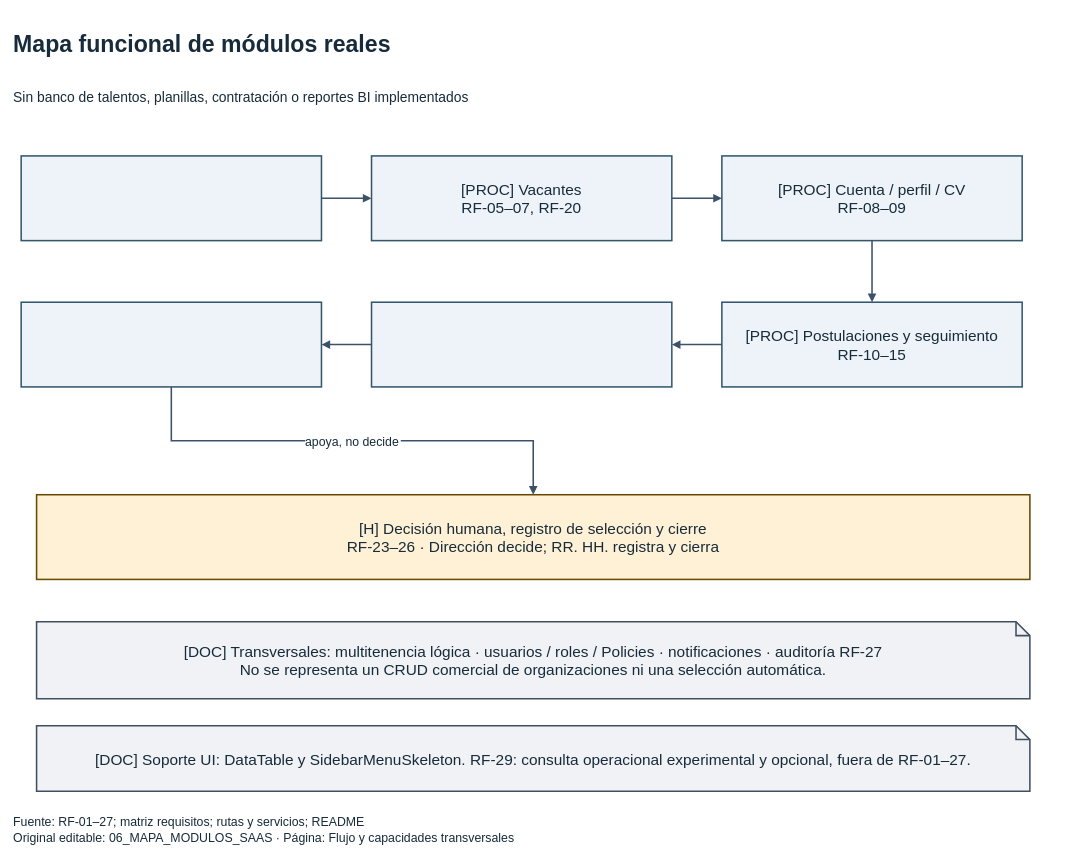
Image size: 1073x867. Some labels were removed from this diagram. Each missing label, with the centre of its shape:
"[PROC] Evaluación y entrevista RF-16–20" belongs at pixel 521 344.
"[PROC] Ranking / comparación RF-21–22" belongs at pixel 171 344.
"[PROC] Requerimientos RF-01–04" belongs at pixel 171 198.
